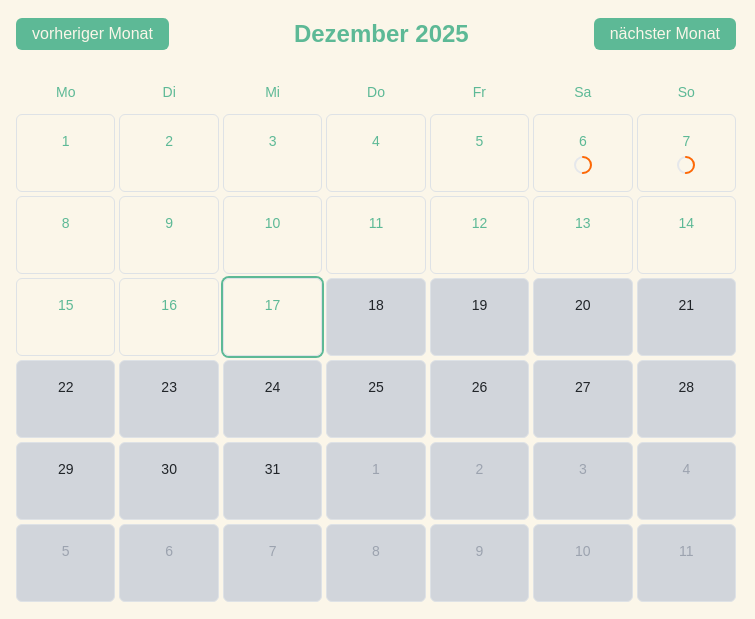
Test case: Calender Component › navigates to next month when next button is clicked
This screenshot has width=755, height=619.
Click the button "nächster Monat" at (665, 34), box 594,18 -> 736,50
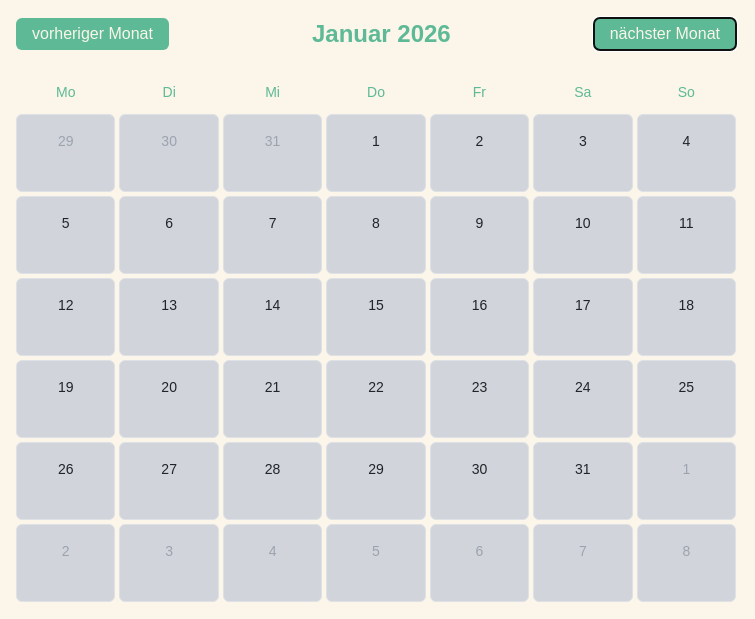
expect the heading "Januar 2026" is shown: met, box 312,18 -> 451,50
